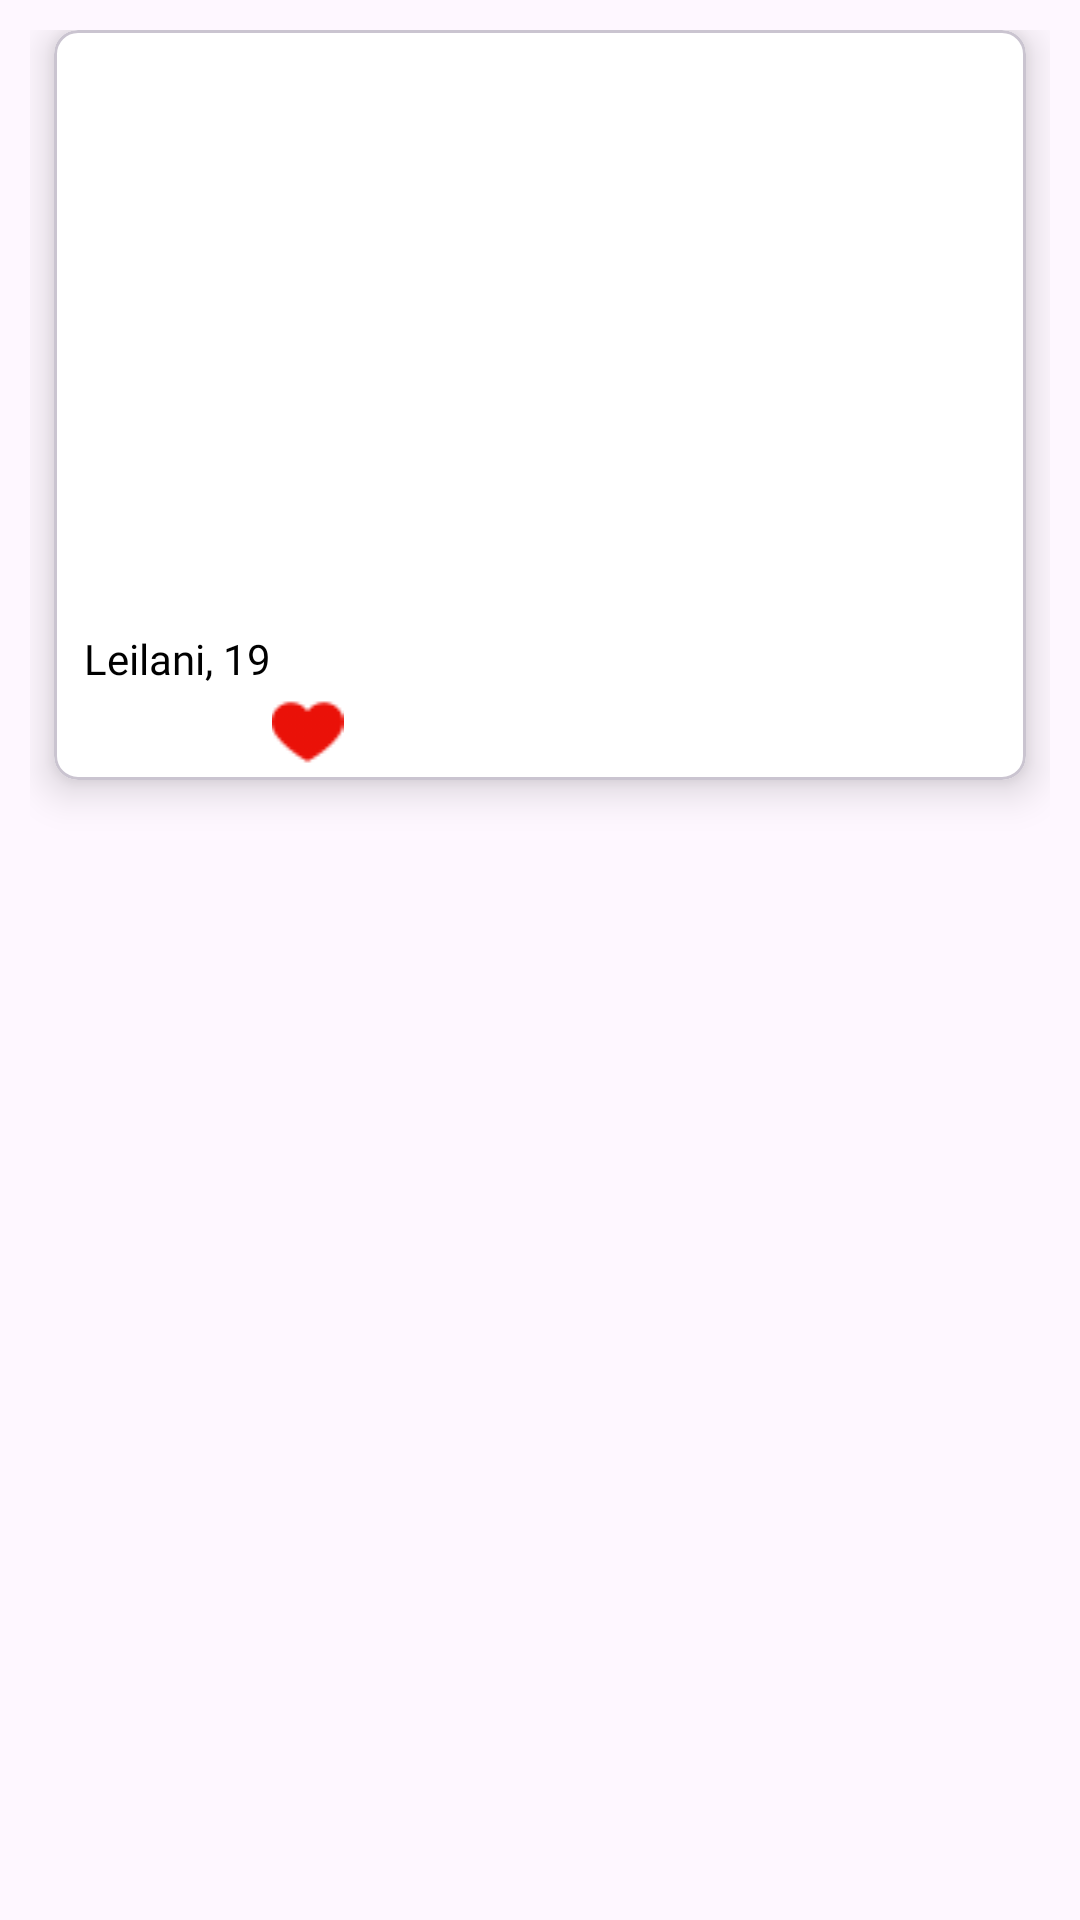

Icons on this 1080w x 1920h Android screen, each with the point to tap as (x=x, y=y):
heartred: (x=308, y=732)
